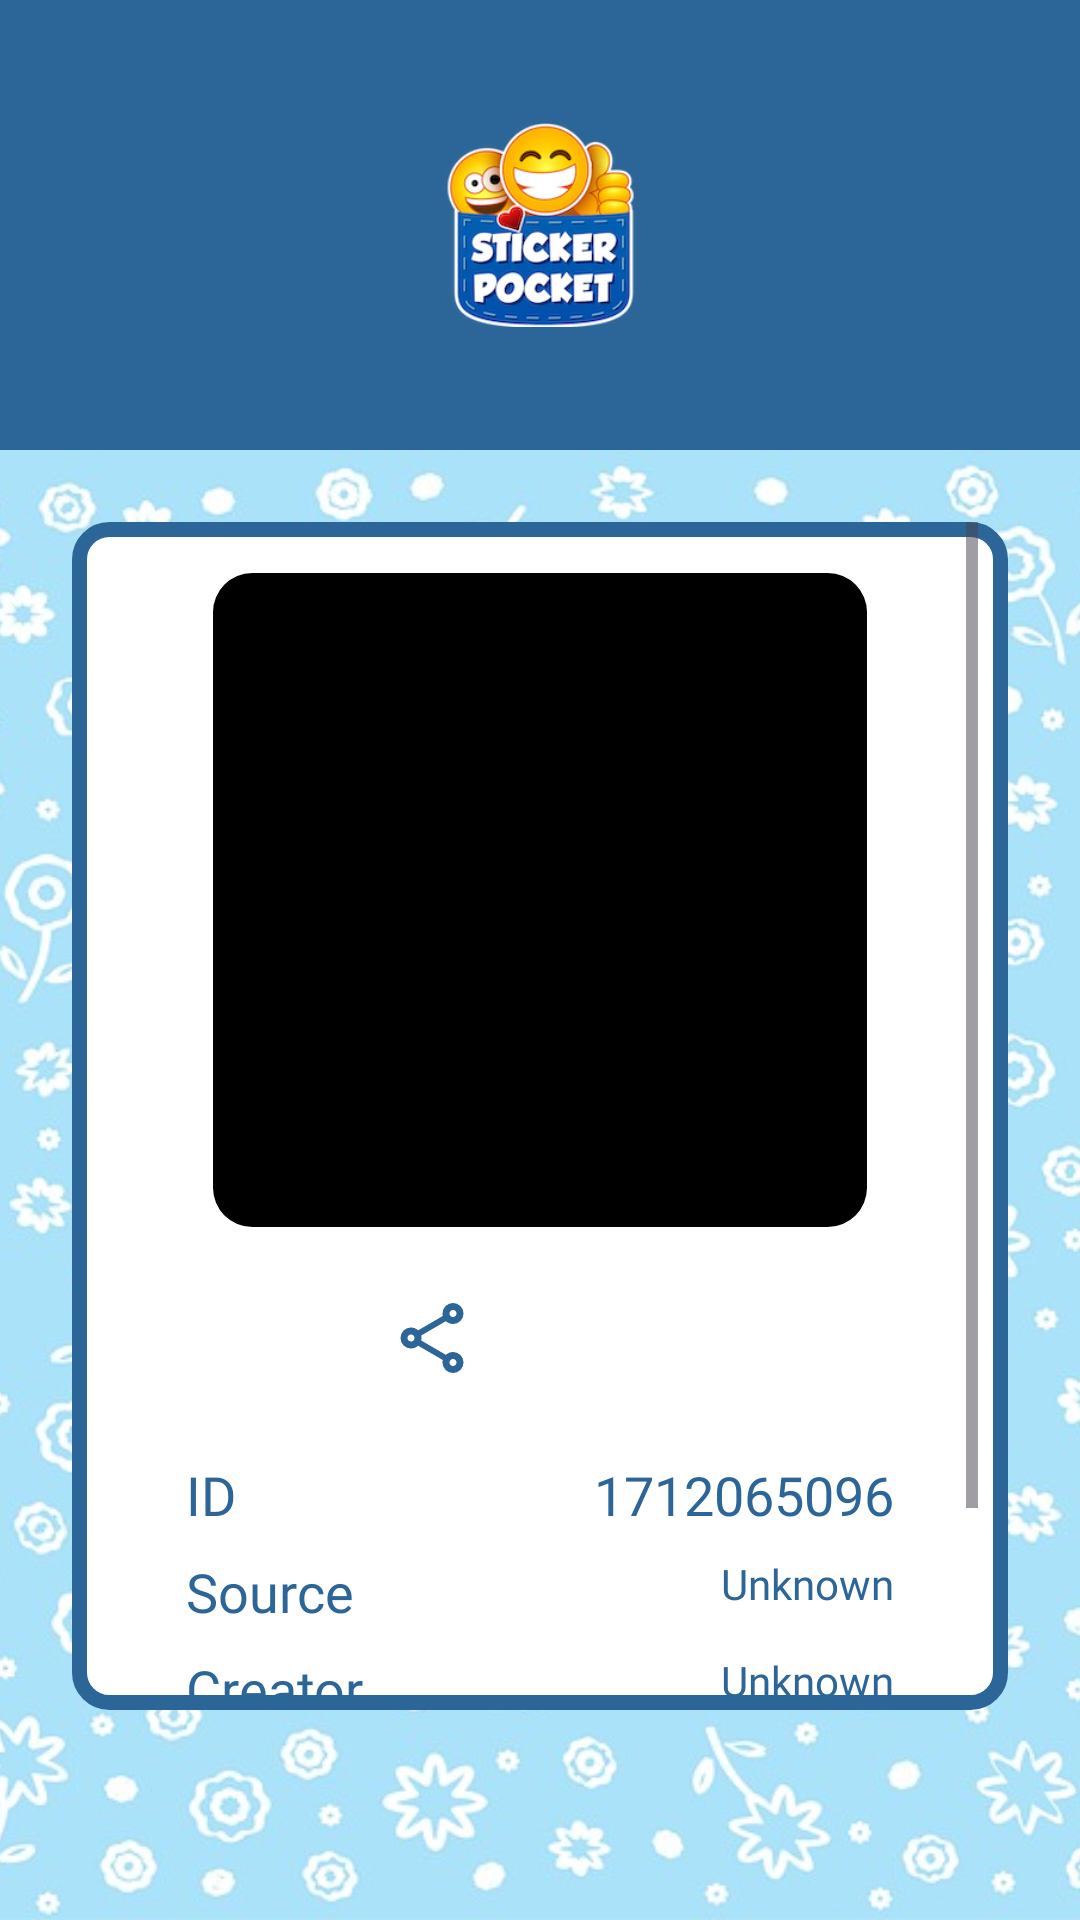

Icons on this 1080w x 1920h Android screen, each with the point to tap as point (x, y):
share: point (432, 1338)
